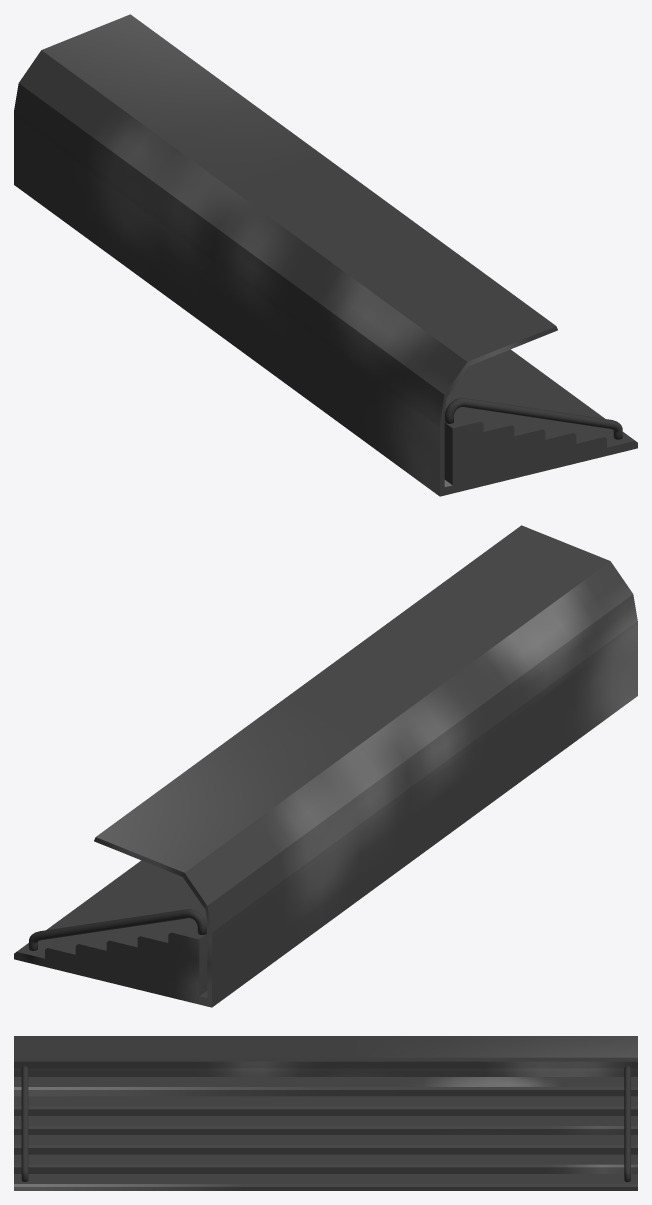
File: IFB399-Grandstand.obj
3 views of the same model, one above another, from view 1: azimuth 30°, elevation 25°; view 2: azimuth 150°, elevation 25°; view 3: azimuth 270°, elevation 25° (orthographic). The views are drawn at different scales.
Parts seen in each view (by area): view 1: Grandstand_Plane, HandRail-Left_Cylinder; view 2: Grandstand_Plane, HandRail-Right_Cylinder.001; view 3: Grandstand_Plane, HandRail-Left_Cylinder, HandRail-Right_Cylinder.001.
Part boxes in pixels (x1,y1,x2,y2): Grandstand_Plane: (14, 14, 637, 496); HandRail-Left_Cylinder: (444, 397, 622, 439); Grandstand_Plane: (14, 525, 637, 1007); HandRail-Right_Cylinder.001: (28, 909, 206, 950); Grandstand_Plane: (14, 1036, 637, 1190); HandRail-Left_Cylinder: (21, 1066, 28, 1181); HandRail-Right_Cylinder.001: (624, 1066, 630, 1181).
Size of the model in its own units: 5.38 by 3.69 by 20.03.
